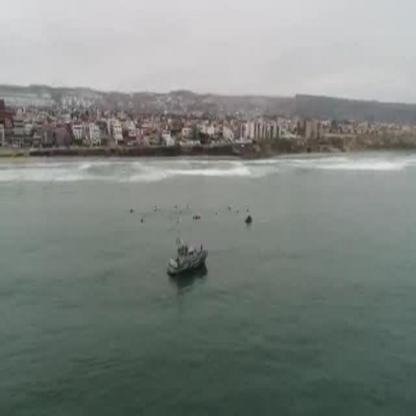Boat: (164, 239, 207, 280)
